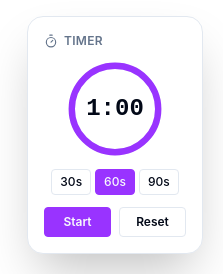
Test: FloatingTimer › counts down after Start is pressed
Click the button "Start": click(78, 222) [44,207,111,237]
Wait 3000 ms
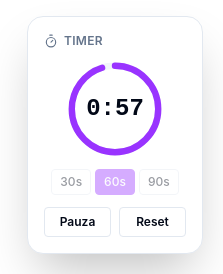
expect the text "0:57" is shown: met, box [86,93,144,125]
